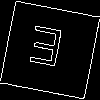E: (24, 25, 65, 77)
